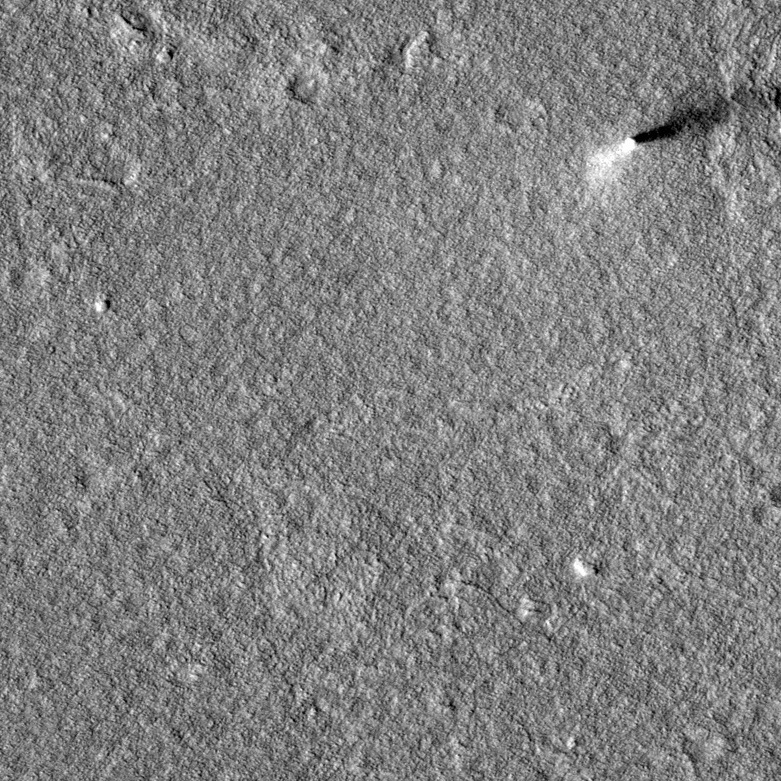dust_devil: (583, 84, 759, 184)
